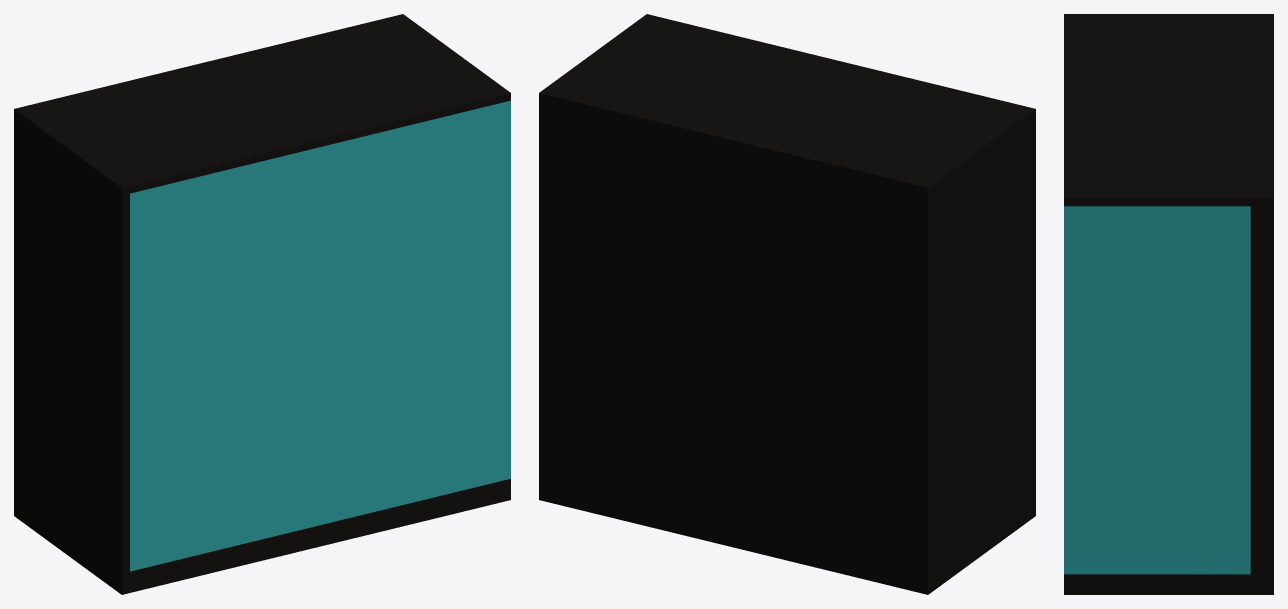
The model's file is pcRgb.fbx.
3 views of the same model, side by side, from view 1: azimuth 30°, elevation 25°; view 2: azimuth 150°, elevation 25°; view 3: azimuth 270°, elevation 25° (orthographic). The views are drawn at different scales.
Visible parts, largest first — view 1: GlassSide, Cube; view 2: Cube; view 3: GlassFront, Cube.
Boxes of the visible parts, x1,y1,x2,y2 form: GlassSide: [130, 100, 510, 571]; Cube: [14, 14, 510, 594]; Cube: [539, 14, 1035, 594]; GlassFront: [1064, 206, 1250, 574]; Cube: [1064, 14, 1273, 594].
Bounding box in the file's own units: 200 × 200 × 96.
